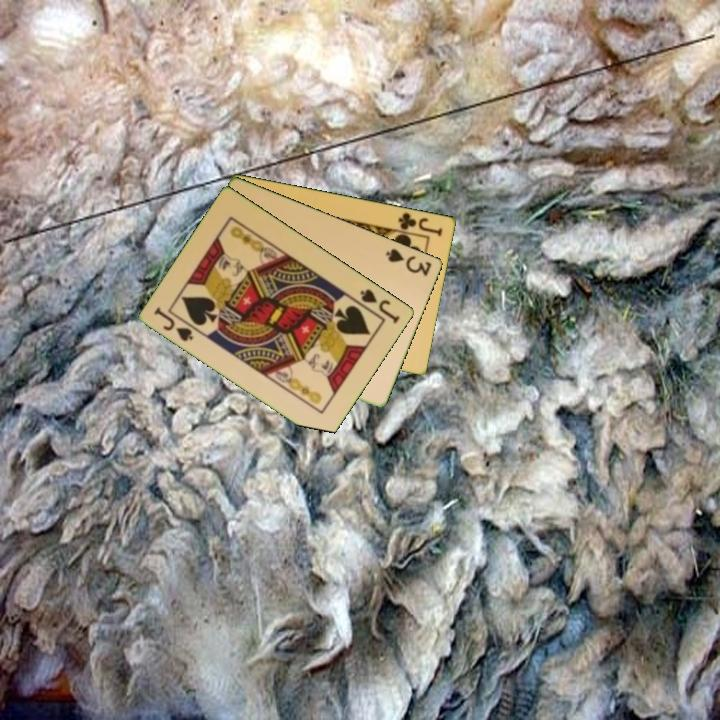3s: (383, 245, 435, 279)
Jc: (391, 209, 446, 239)
Js: (151, 303, 202, 345), (357, 285, 403, 326)
